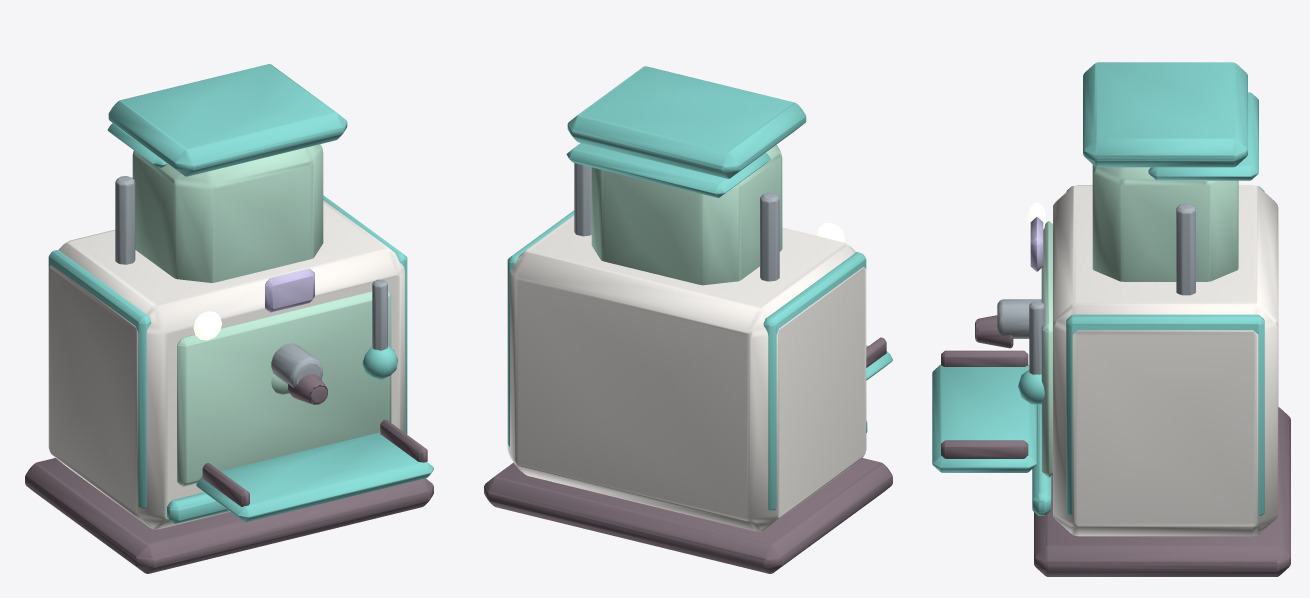
The model's file is machine_mint.glb.
The picture shows the model from 3 angles, left to right: view 1: azimuth 30°, elevation 25°; view 2: azimuth 150°, elevation 25°; view 3: azimuth 270°, elevation 25°; orthographic projection. The views are drawn at different scales.
Visible parts, largest first — view 1: Machine_Mint_Body, Machine_Mint_FlavorPanel, Machine_Mint_TallTank, Machine_Mint_CoolingCap, Machine_Mint_Base, Machine_Mint_RemovableOutputTray, Machine_Mint_L2_Rail_Left, Machine_Mint_CoolantPipe_L, Machine_Mint_L3_Badge, Machine_Mint_NozzleNeck, Machine_Mint_LowerTrim, Machine_Mint_LeverRod (+7 smaller); view 2: Machine_Mint_Body, Machine_Mint_Base, Machine_Mint_TallTank, Machine_Mint_CoolingCap, Machine_Mint_Hatch, Machine_Mint_L2_Rail_Left, Machine_Mint_CoolantPipe_L, Machine_Mint_CoolantPipe_R, Machine_Mint_L2_Rail_Right; view 3: Machine_Mint_Body, Machine_Mint_CoolingCap, Machine_Mint_TallTank, Machine_Mint_Base, Machine_Mint_RemovableOutputTray, Machine_Mint_L2_Rail_Right, Machine_Mint_FlavorPanel, Machine_Mint_Hatch, Machine_Mint_CoolantPipe_R, Machine_Mint_TrayRail_R, Machine_Mint_TrayRail_L, Machine_Mint_NozzleNeck (+5 smaller).
Boxes of the visible parts, left/top/right/bottom form: Machine_Mint_Body: left=48, top=200, right=404, bottom=529; Machine_Mint_FlavorPanel: left=177, top=290, right=391, bottom=486; Machine_Mint_TallTank: left=132, top=144, right=323, bottom=282; Machine_Mint_CoolingCap: left=108, top=64, right=347, bottom=176; Machine_Mint_Base: left=25, top=458, right=433, bottom=573; Machine_Mint_RemovableOutputTray: left=196, top=432, right=433, bottom=522; Machine_Mint_L2_Rail_Left: left=48, top=250, right=151, bottom=508; Machine_Mint_CoolantPipe_L: left=115, top=176, right=135, bottom=264; Machine_Mint_L3_Badge: left=265, top=268, right=314, bottom=312; Machine_Mint_NozzleNeck: left=271, top=343, right=322, bottom=387; Machine_Mint_LowerTrim: left=167, top=492, right=228, bottom=523; Machine_Mint_LeverRod: left=372, top=279, right=387, bottom=350; Machine_Mint_Body: left=507, top=215, right=866, bottom=531; Machine_Mint_Base: left=484, top=458, right=892, bottom=573; Machine_Mint_TallTank: left=591, top=144, right=782, bottom=285; Machine_Mint_CoolingCap: left=567, top=66, right=806, bottom=178; Machine_Mint_Hatch: left=566, top=143, right=770, bottom=197; Machine_Mint_L2_Rail_Left: left=763, top=252, right=866, bottom=510; Machine_Mint_CoolantPipe_L: left=760, top=192, right=779, bottom=281; Machine_Mint_CoolantPipe_R: left=574, top=163, right=591, bottom=236; Machine_Mint_L2_Rail_Right: left=507, top=210, right=574, bottom=446; Machine_Mint_Body: left=1053, top=185, right=1278, bottom=536; Machine_Mint_CoolingCap: left=1083, top=62, right=1247, bottom=167; Machine_Mint_TallTank: left=1092, top=164, right=1238, bottom=281; Machine_Mint_Base: left=1034, top=407, right=1290, bottom=576; Machine_Mint_RemovableOutputTray: left=932, top=364, right=1036, bottom=472; Machine_Mint_L2_Rail_Right: left=1066, top=314, right=1264, bottom=515; Machine_Mint_FlavorPanel: left=1041, top=221, right=1052, bottom=477; Machine_Mint_Hatch: left=1148, top=92, right=1258, bottom=180; Machine_Mint_CoolantPipe_R: left=1176, top=203, right=1195, bottom=295; Machine_Mint_TrayRail_R: left=941, top=440, right=1028, bottom=458; Machine_Mint_TrayRail_L: left=941, top=350, right=1028, bottom=366; Machine_Mint_NozzleNeck: left=997, top=299, right=1041, bottom=338.
Bounding box in the file's own units: 2.28 × 2.9 × 2.29.
